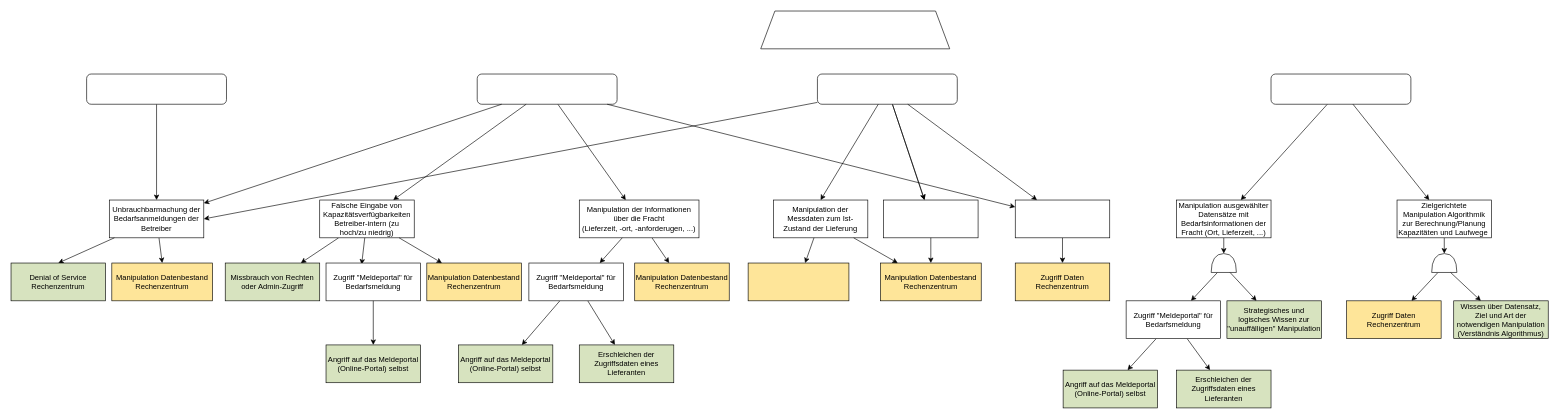
Image size: 1559x419. Some labels were removed from this diagram. Each missing label, with the box of its shape:
Angriffsziel Güterwegemanagement: (760, 10, 950, 49)
Chaos schüren: (86, 73, 226, 104)
Finanzieller Schaden Betreiber: (817, 73, 957, 104)
Manipulation Algorithmik zur Berechnung/Planung Kapazitäten und Laufwege: (883, 199, 978, 238)
Manipulation Lokalisierungsinformationen: (747, 262, 849, 301)
Marktmanipulation zum Schaden/Vorteil einer Gruppe: (1270, 73, 1411, 104)
Reputationsschaden Betreiber: (477, 73, 617, 104)
Störung der Algorithmik zur Berechnung/Planung Kapazitäten und Laufwege: (1015, 199, 1110, 238)
